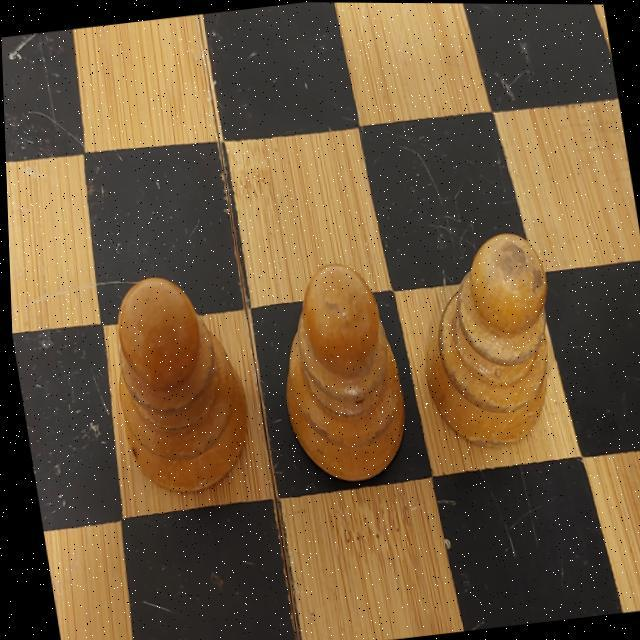white-pawn: (115, 272, 250, 494), (424, 234, 553, 449), (284, 258, 406, 481)
